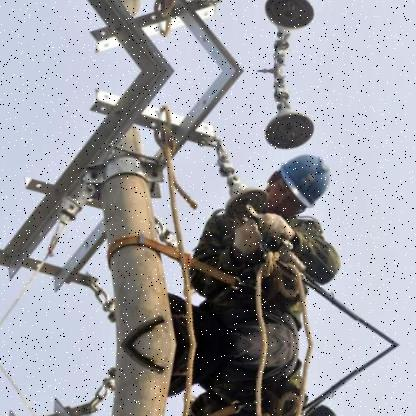Helmet: (261, 153, 331, 222)
